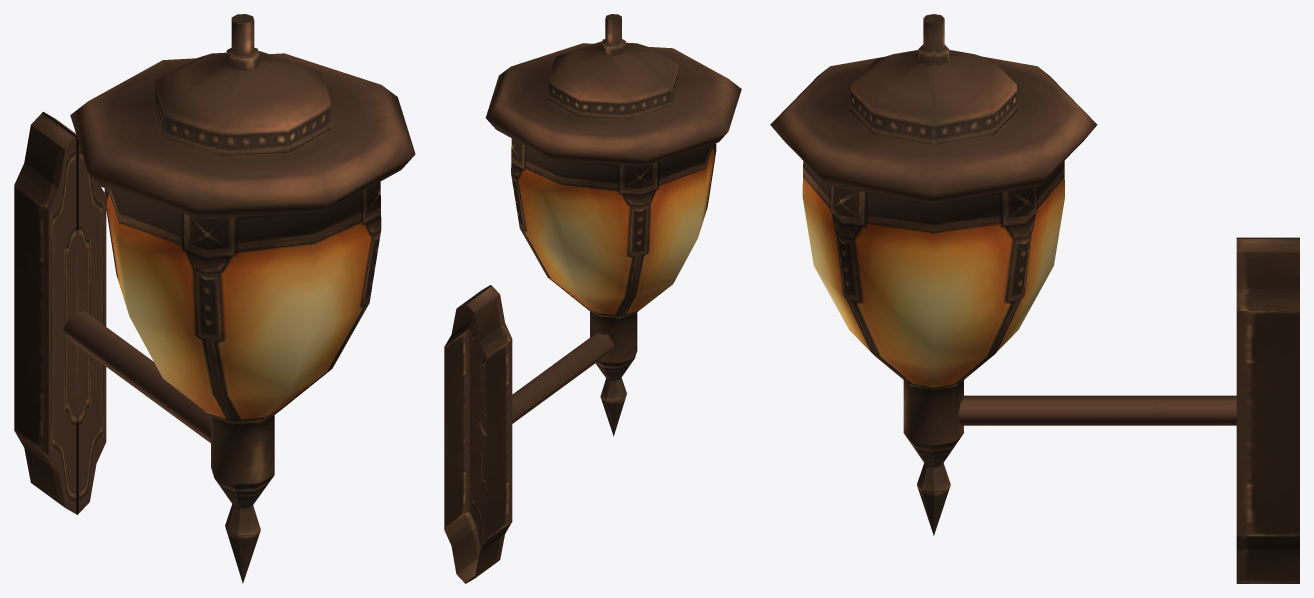
Rendered from Battle04_Light_03.FBX.
3 views of the same model, side by side, from view 1: azimuth 30°, elevation 25°; view 2: azimuth 150°, elevation 25°; view 3: azimuth 270°, elevation 25° (orthographic). The views are drawn at different scales.
Visible parts, largest first — view 1: Battle04_Light_01; view 2: Battle04_Light_01; view 3: Battle04_Light_01.
Boxes of the visible parts, bbox=[...] form: Battle04_Light_01: bbox=[14, 14, 415, 583]; Battle04_Light_01: bbox=[444, 14, 741, 583]; Battle04_Light_01: bbox=[770, 14, 1299, 583].
Size of the model in its own units: 1.37 by 2.6 by 2.21.
